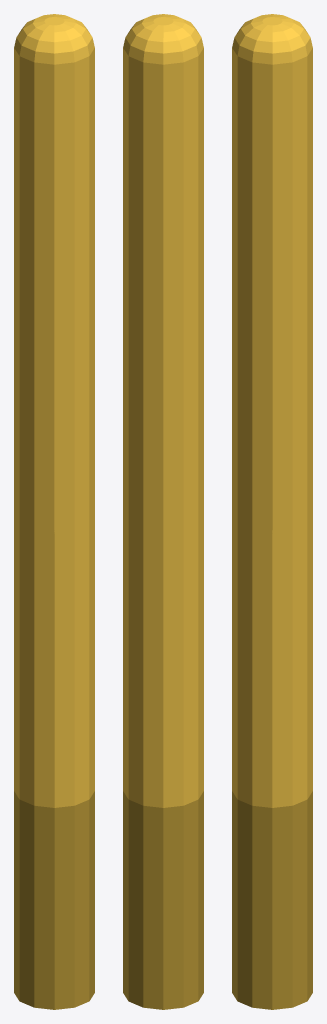
The model's file is Pole.fbx.
3 renders of one model, left to right at view 1: azimuth 90°, elevation 25°; view 2: azimuth 150°, elevation 25°; view 3: azimuth 270°, elevation 25°, orthographic.
Parts seen in each view (by area): view 1: Pole; view 2: Pole; view 3: Pole.
Boxes of the visible parts, x1=… form: Pole: x1=14, y1=14, x2=94, y2=1009; Pole: x1=123, y1=14, x2=203, y2=1009; Pole: x1=232, y1=14, x2=312, y2=1009.
Bounding box in the file's own units: 33.69 × 447 × 33.69.
